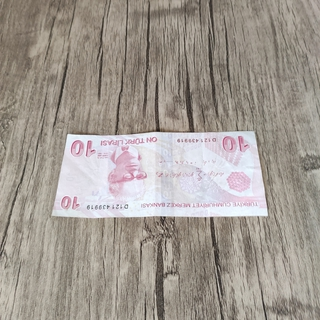10TLBack: (49, 130, 269, 219)
